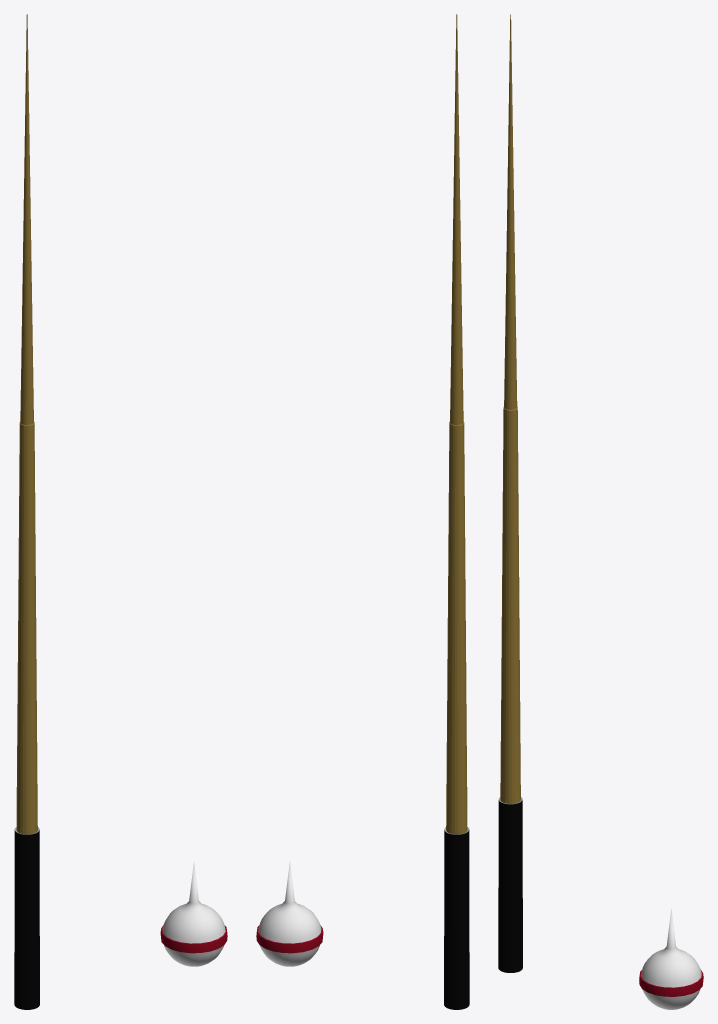
Rendered from RodBobber (3).fbx.
3 views of the same model, side by side, from view 1: azimuth 30°, elevation 25°; view 2: azimuth 150°, elevation 25°; view 3: azimuth 330°, elevation 25° (orthographic). The views are drawn at different scales.
Visible parts, largest first — view 1: pCylinder1, pSphere1; view 2: pCylinder1, pSphere1; view 3: pCylinder1, pSphere1.
Boxes of the visible parts, x1,y1,x2,y2 form: pCylinder1: (14, 14, 39, 1009); pSphere1: (160, 861, 227, 966); pCylinder1: (444, 14, 469, 1009); pSphere1: (256, 861, 323, 966); pCylinder1: (498, 14, 522, 972); pSphere1: (639, 908, 703, 1009).
Bounding box in the file's own units: 37.24 × 170 × 10.48.
